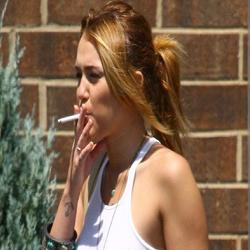smoking: (54, 110, 95, 126)
